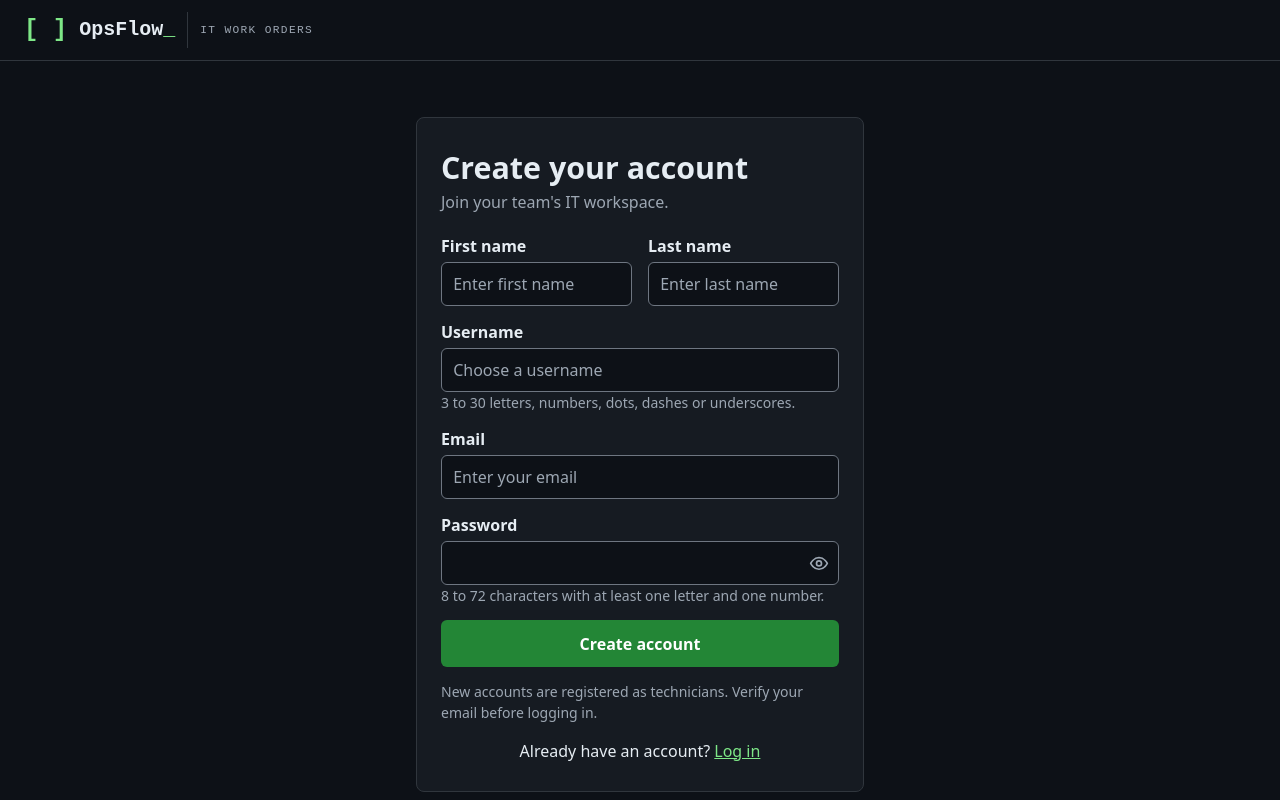
Test case: web authentication screens › shows field messages when registration is rejected
Type "Jamie" into the field labelled "First name" at (536, 284), box [441, 262, 632, 306]
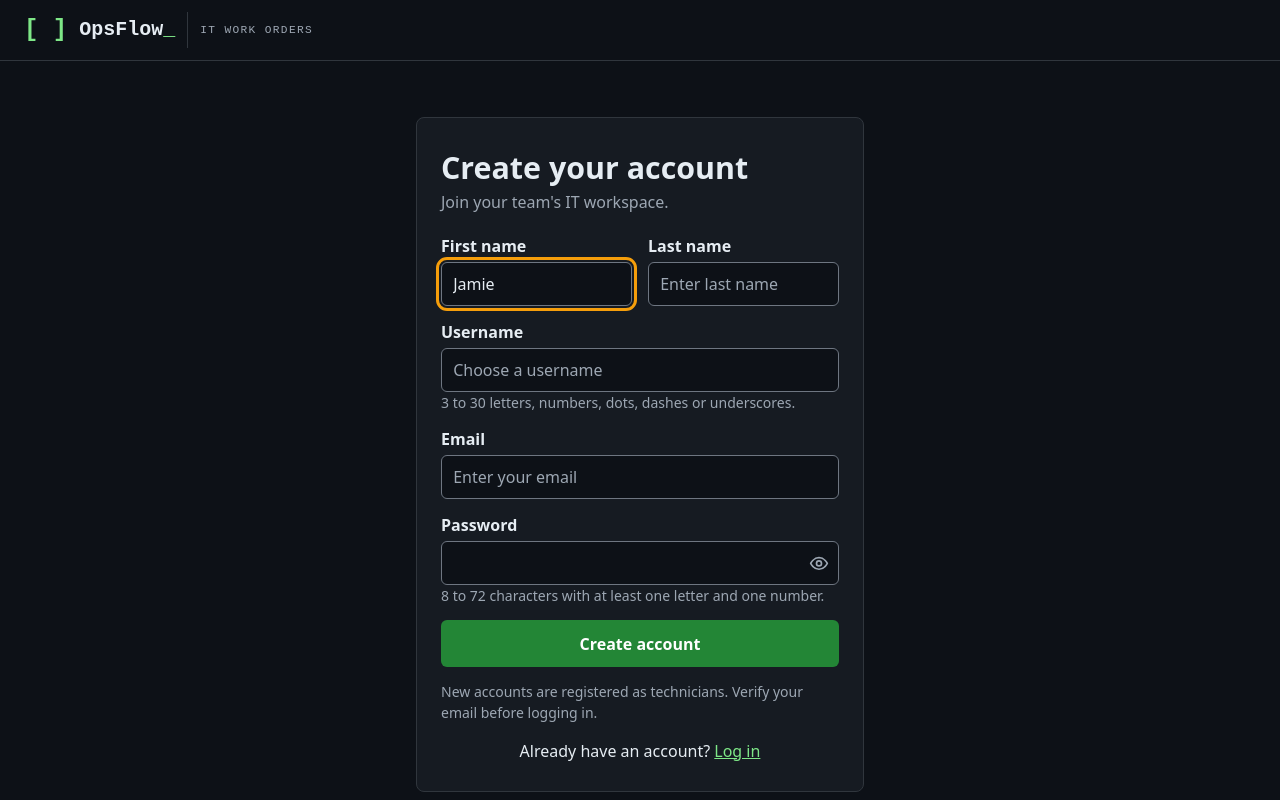
Type "Rivera" into the field labelled "Last name" at (744, 284), box [648, 262, 839, 306]
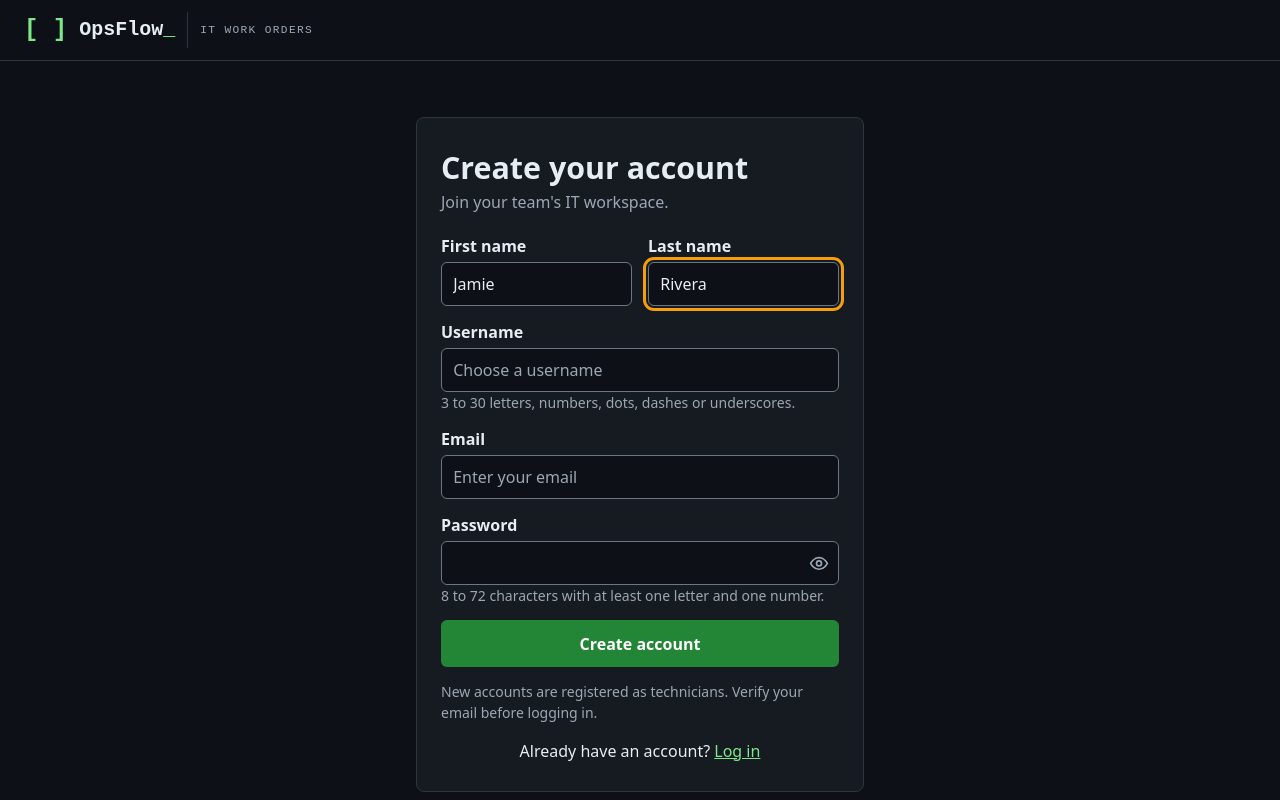
Type "jrivera" into the field labelled "Username" at (640, 370), box [441, 348, 839, 392]
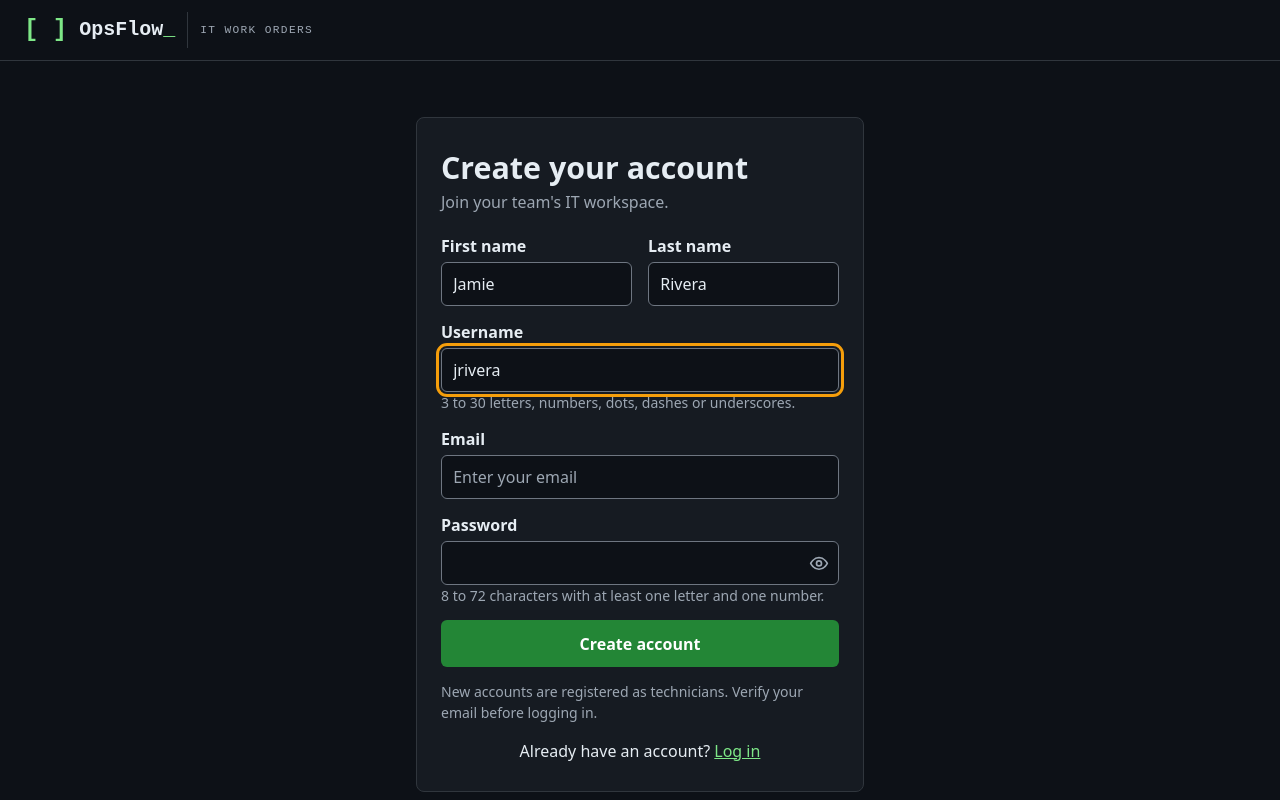
Type "jamie@example.com" into the field labelled "Email" at (640, 477), box [441, 456, 839, 499]
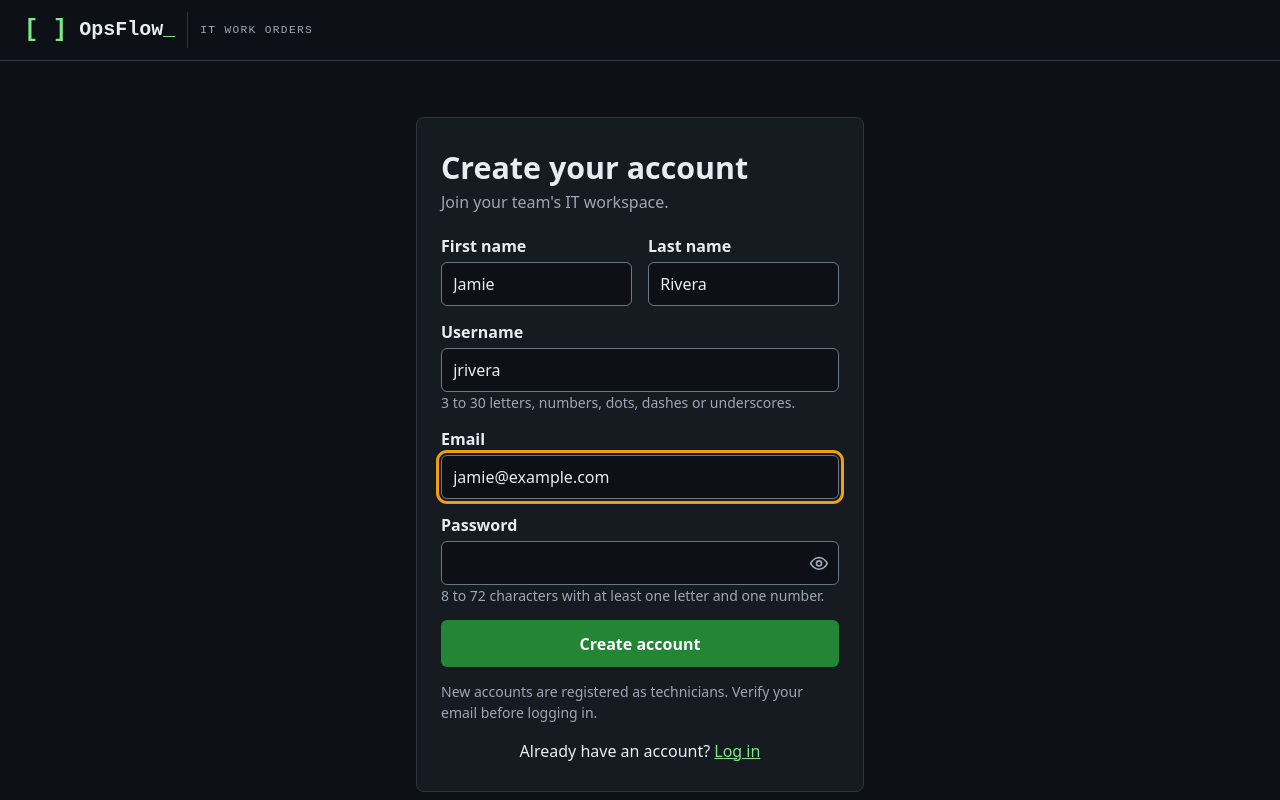
Type "passwordonly" into the password field labelled "Password" at (640, 563), box [441, 541, 839, 585]
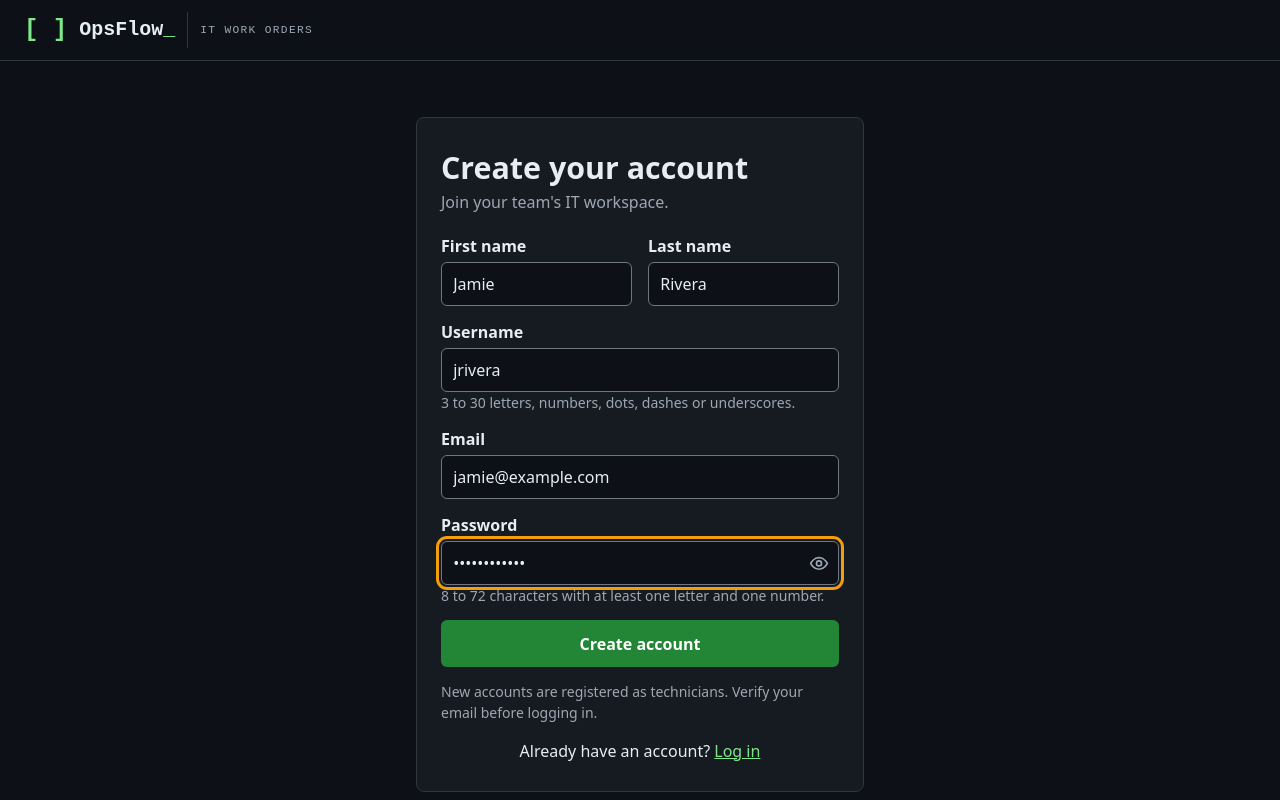
Click the button "Create account" at (640, 644), box [441, 620, 839, 667]
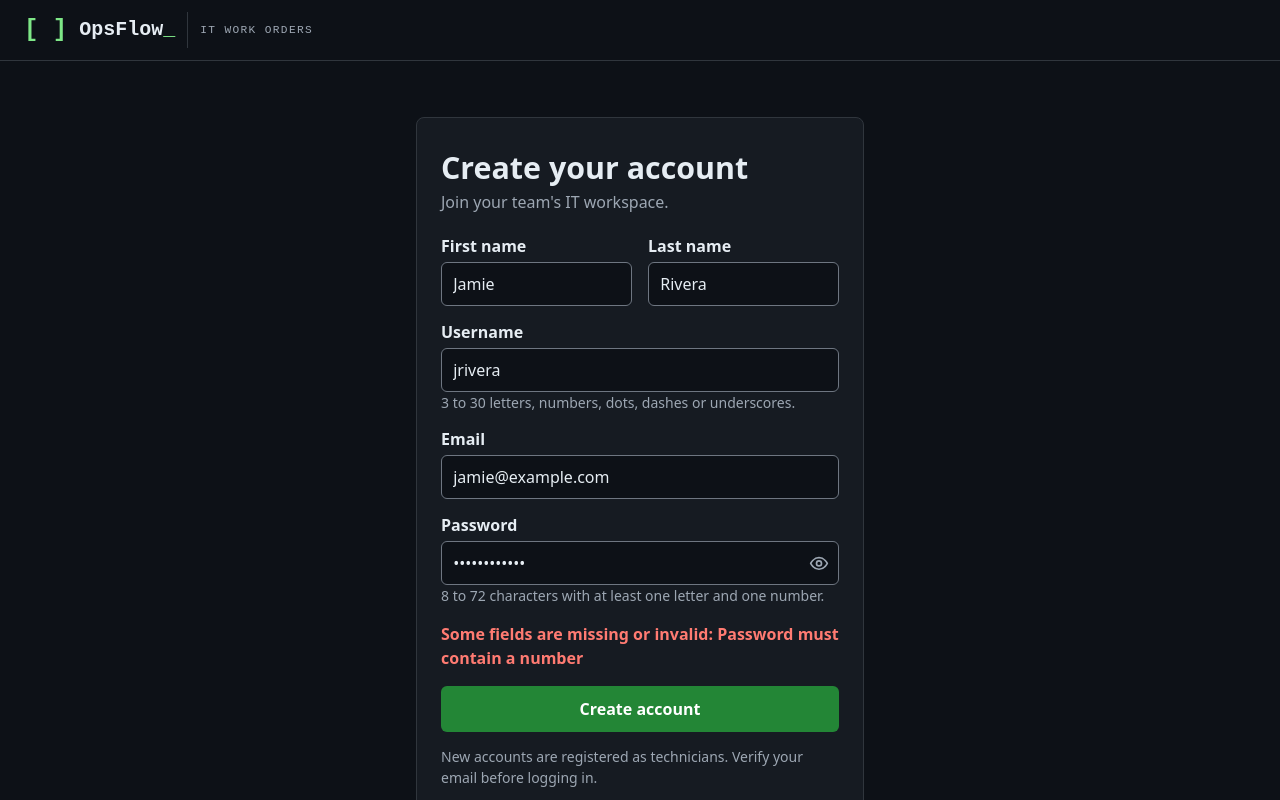
Check: the message shows "Password must contain a number", box [441, 623, 839, 669]
